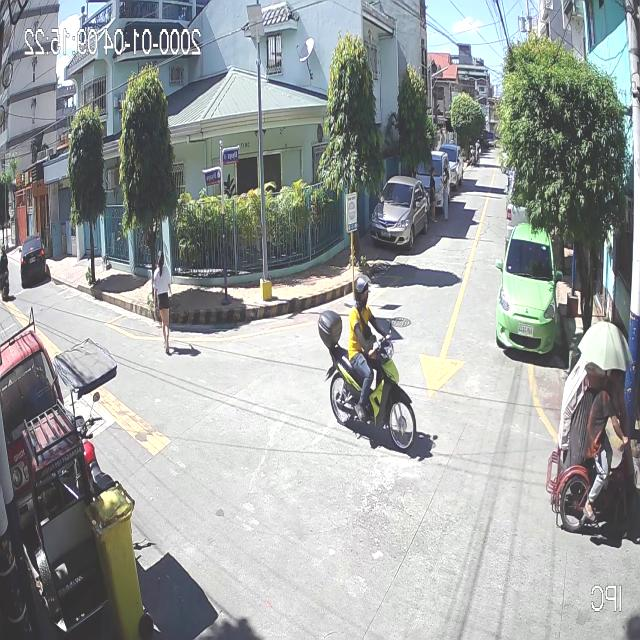standing: (439, 166, 452, 221), (427, 166, 438, 223), (474, 139, 481, 165)
walking: (153, 248, 172, 357)
